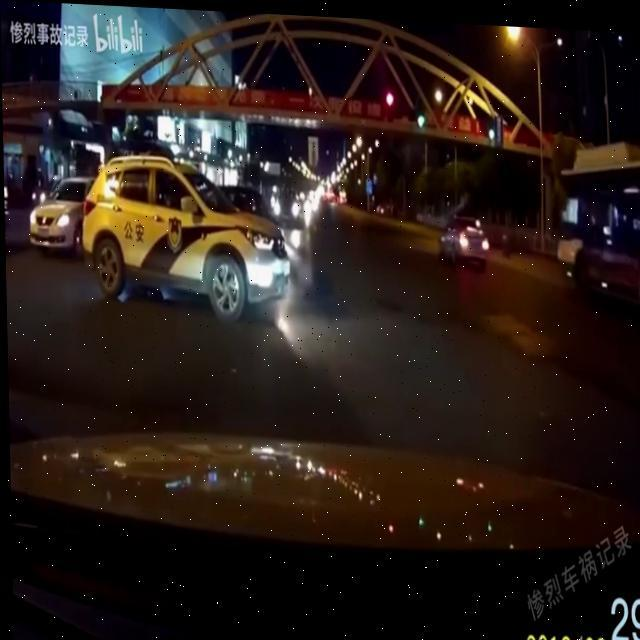multiple_accident: (7, 136, 310, 323)
